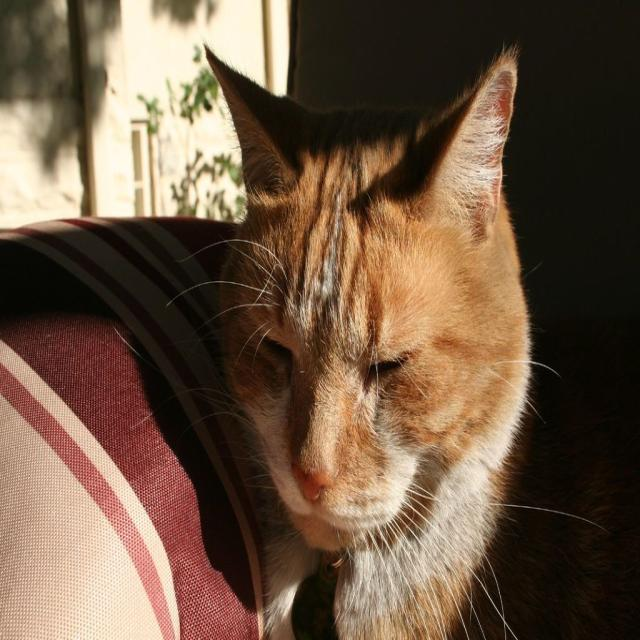Cat: (114, 39, 612, 638)
